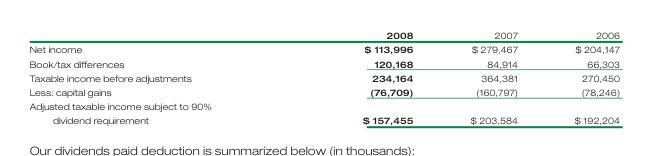table: (28, 29, 619, 125)
table column: (28, 29, 286, 125), (286, 29, 441, 125), (441, 29, 545, 125), (545, 29, 619, 125)
table column header: (28, 29, 619, 41)
table row: (28, 98, 619, 125), (28, 41, 619, 56), (28, 56, 619, 70), (28, 70, 619, 84), (28, 84, 619, 98), (28, 29, 619, 41)
